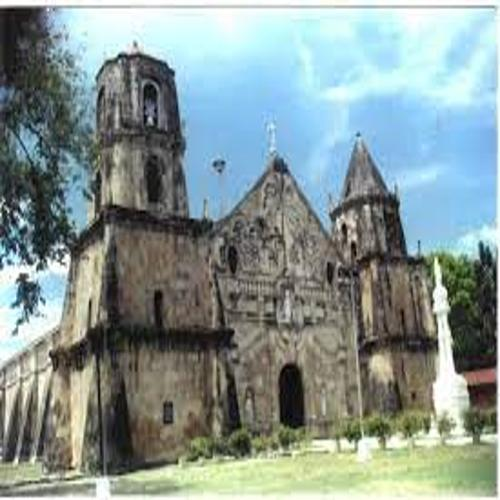Miagao Church: (70, 24, 434, 463)
